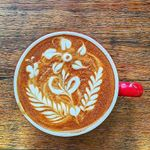cups: (12, 30, 121, 139)
